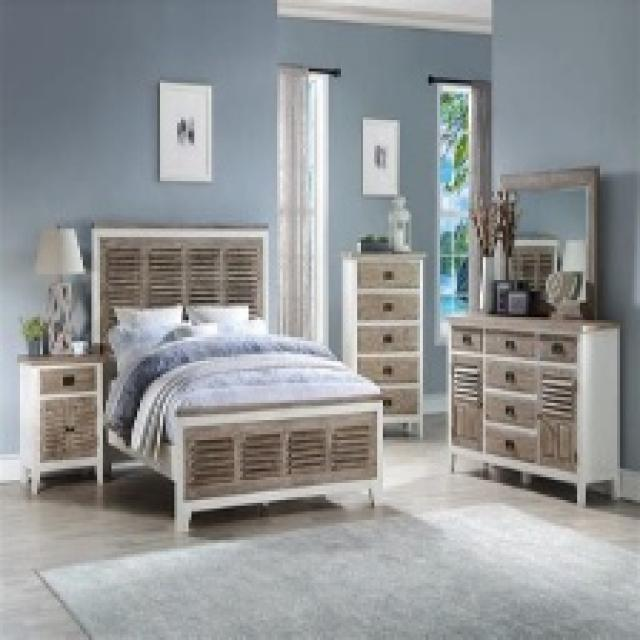Bed: (88, 223, 383, 531)
